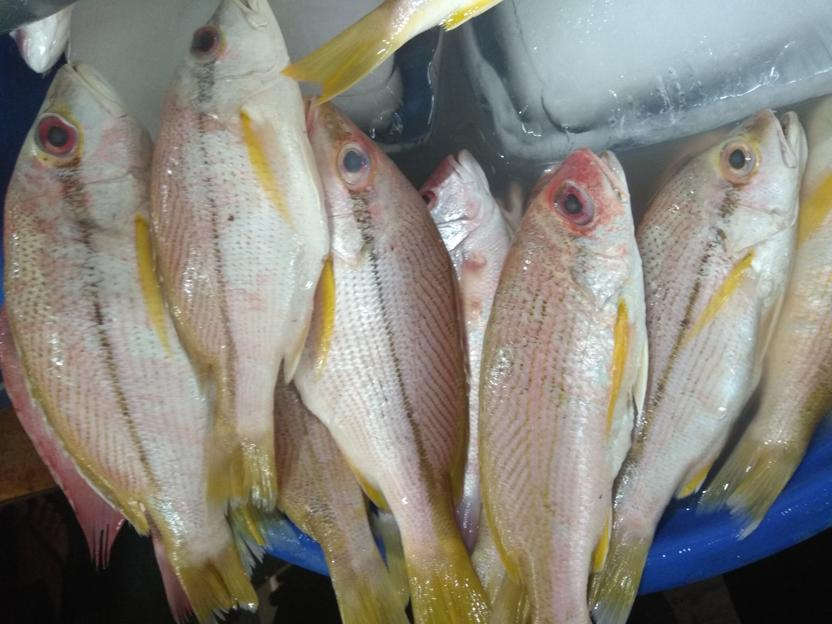Fish head: (18, 61, 154, 221), (520, 149, 640, 304), (305, 96, 411, 266), (689, 108, 809, 251), (175, 1, 290, 119), (417, 147, 511, 273)
Fish tail: (283, 2, 410, 109), (696, 431, 807, 542), (405, 539, 495, 624), (171, 537, 258, 624), (204, 415, 280, 513), (587, 513, 654, 624), (322, 548, 409, 624)
